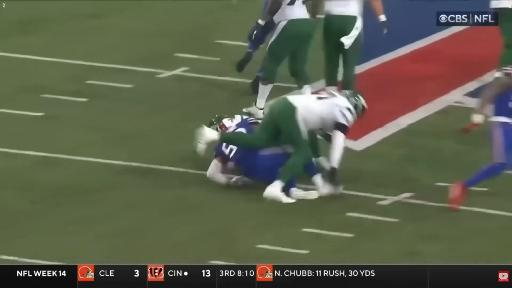Helmet: (326, 90, 367, 116), (209, 115, 259, 131), (208, 116, 228, 131)
Jersey: (286, 95, 356, 132), (214, 143, 257, 166), (274, 0, 309, 23), (324, 0, 363, 16), (491, 91, 511, 121), (221, 115, 258, 130)
Player: (196, 90, 367, 199), (449, 1, 511, 209), (244, 0, 314, 118), (449, 90, 511, 209), (323, 0, 363, 90), (207, 143, 290, 185), (236, 20, 275, 72)
